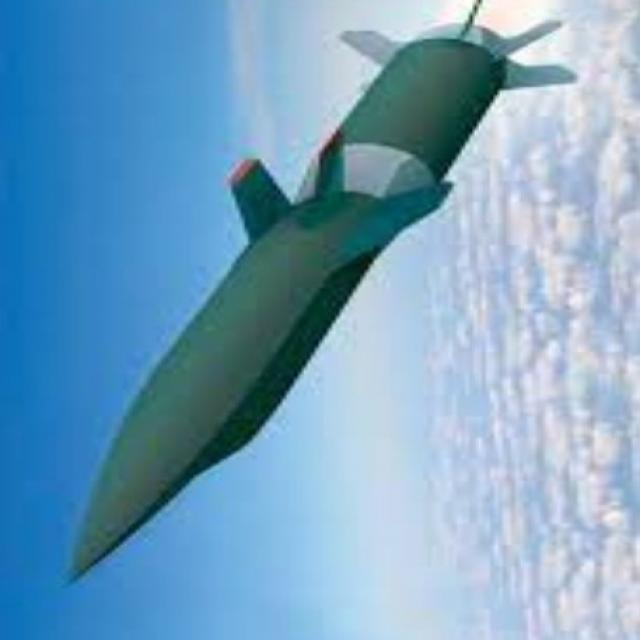missile: (64, 18, 520, 580)
